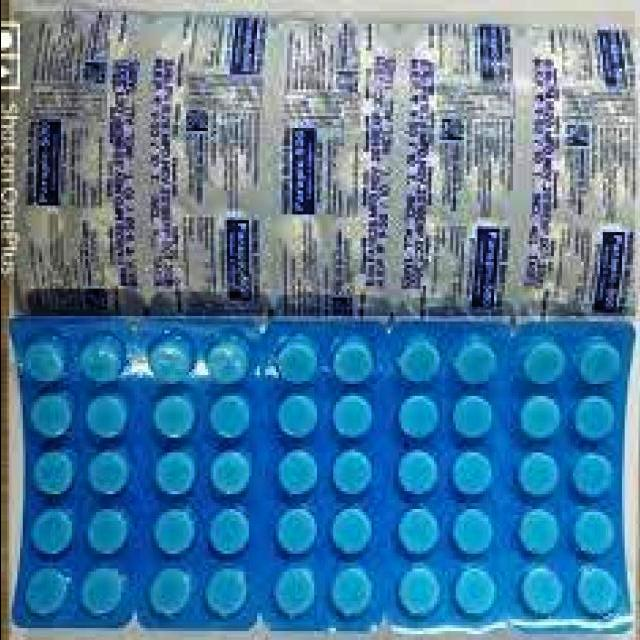authentic: (6, 316, 638, 640), (13, 11, 634, 321)
